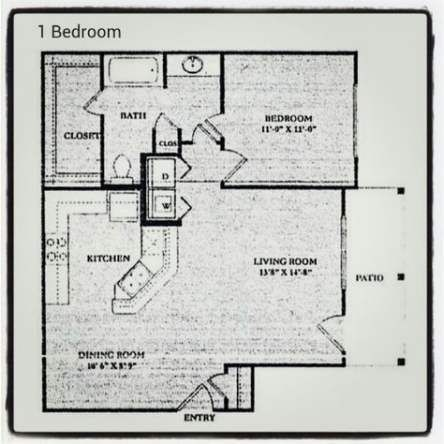door: (309, 314, 341, 353), (174, 379, 213, 407), (224, 145, 250, 182), (76, 83, 104, 114)
room: (176, 180, 346, 368), (40, 305, 252, 411), (218, 48, 359, 189), (41, 185, 178, 307), (102, 51, 217, 185)
